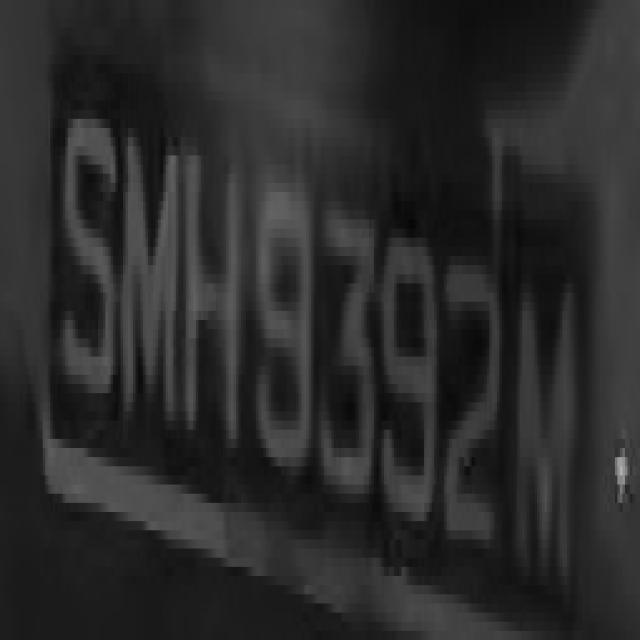2: (439, 219, 505, 558)
3: (311, 155, 382, 512)
9: (248, 137, 316, 494), (374, 210, 434, 549)
H: (178, 92, 249, 457)
M: (497, 247, 582, 585), (121, 82, 178, 439)
S: (63, 101, 118, 393)
